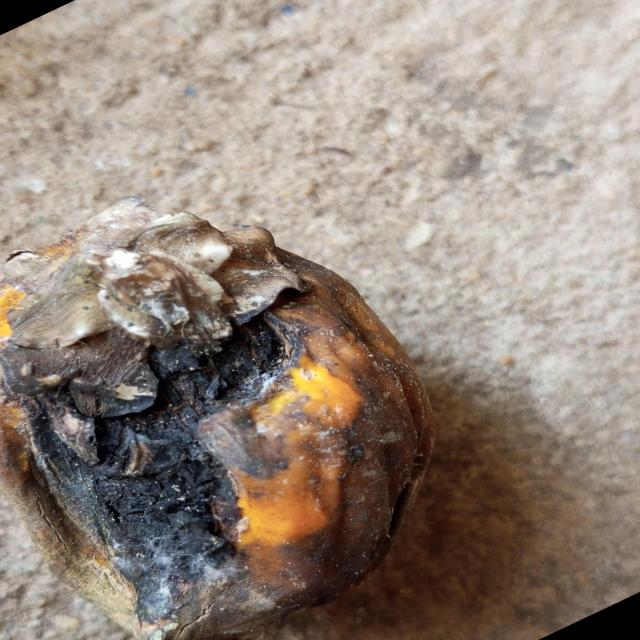damaged: (0, 199, 433, 640)
